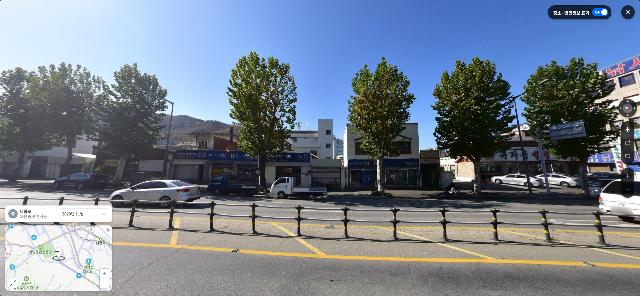other: (520, 56, 617, 194), (431, 57, 519, 193), (346, 57, 417, 195), (226, 51, 298, 186), (93, 63, 168, 186), (35, 60, 111, 174), (1, 66, 48, 183)
